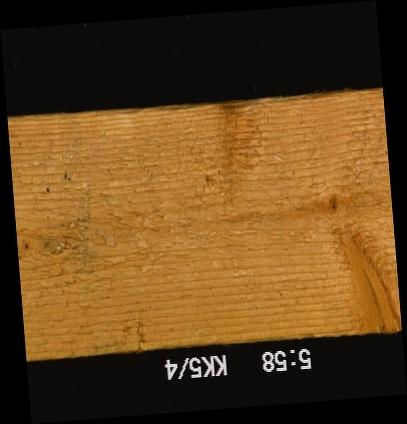small_knot: (326, 190, 341, 220), (19, 239, 33, 254)
wave: (86, 100, 337, 121)
